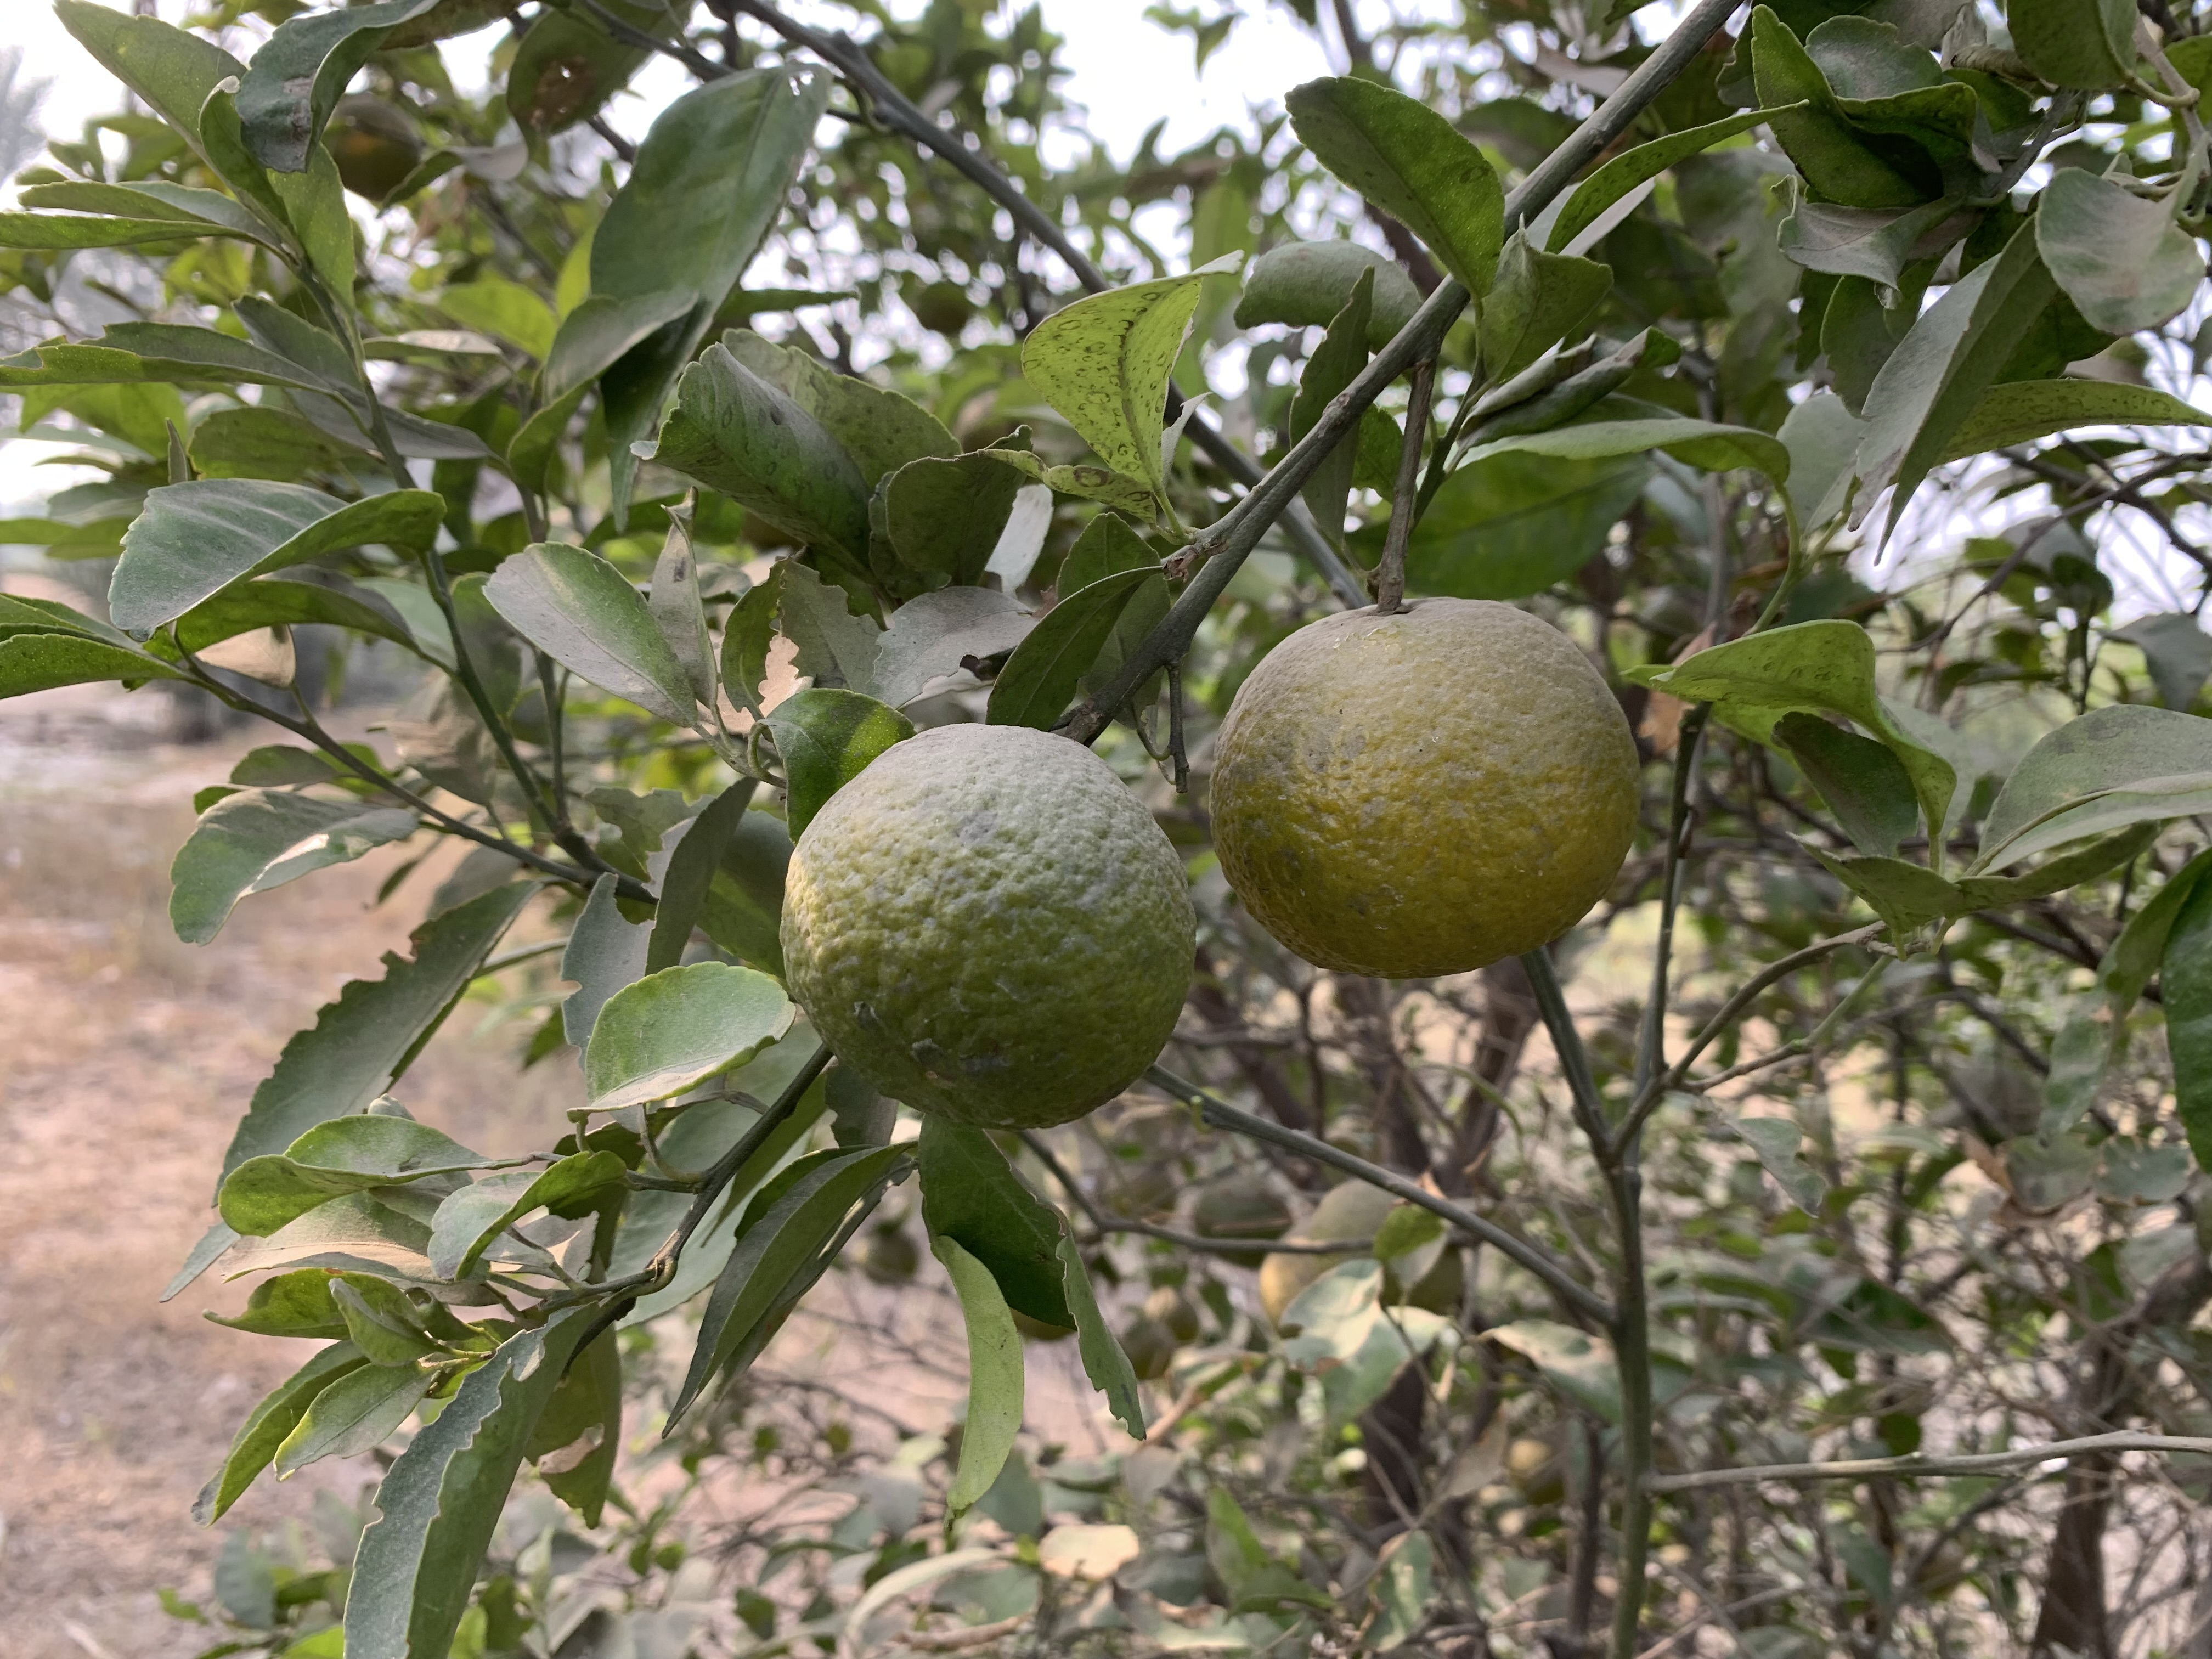orange: (775, 723, 1195, 1127), (1211, 598, 1639, 976), (1261, 1161, 1465, 1310), (320, 89, 421, 199), (1191, 1176, 1292, 1270), (1108, 1304, 1174, 1380), (1909, 1525, 1966, 1605), (859, 1234, 921, 1288), (1512, 1438, 1564, 1502), (1150, 1284, 1197, 1349), (916, 282, 974, 331)
